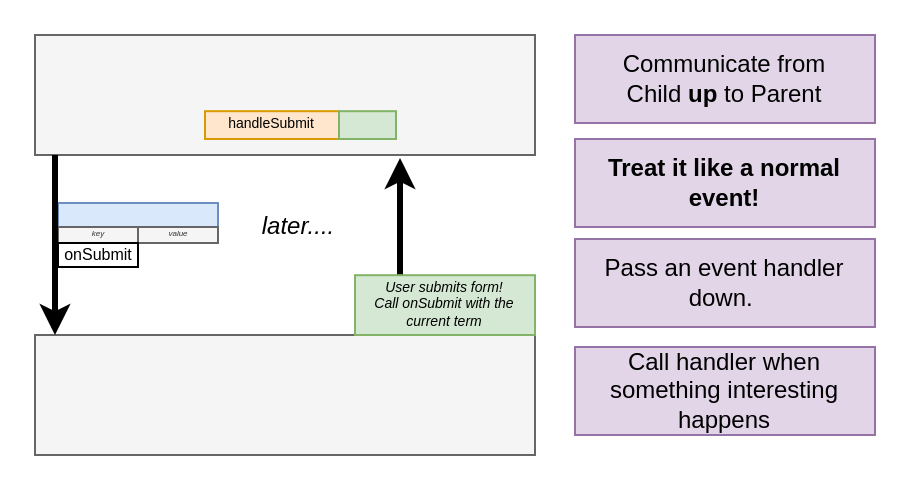
Image size: 910x490. Some labels were removed from this diagram. Each missing label, with the box of its shape:
'cars': (337, 109, 396, 139)
App: (33, 33, 535, 155)
props: (56, 201, 218, 227)
SearchBar: (33, 333, 535, 455)
